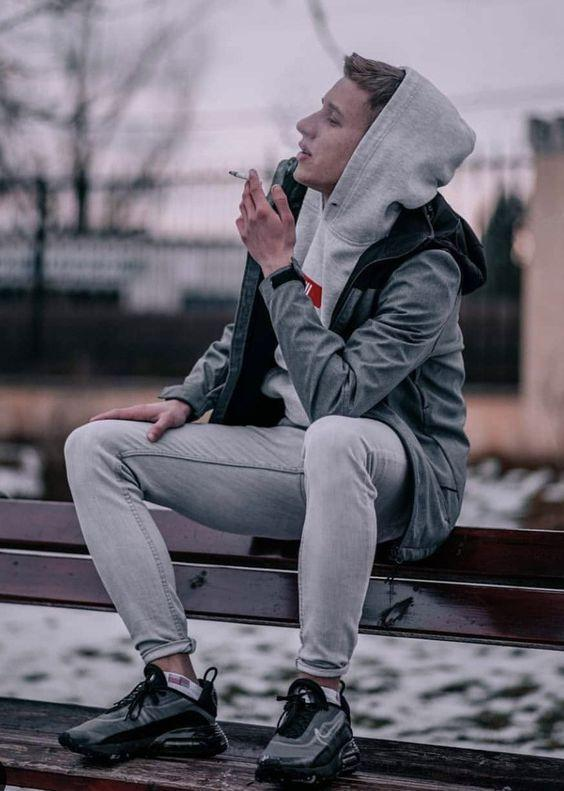cigarette: (227, 169, 263, 186)
